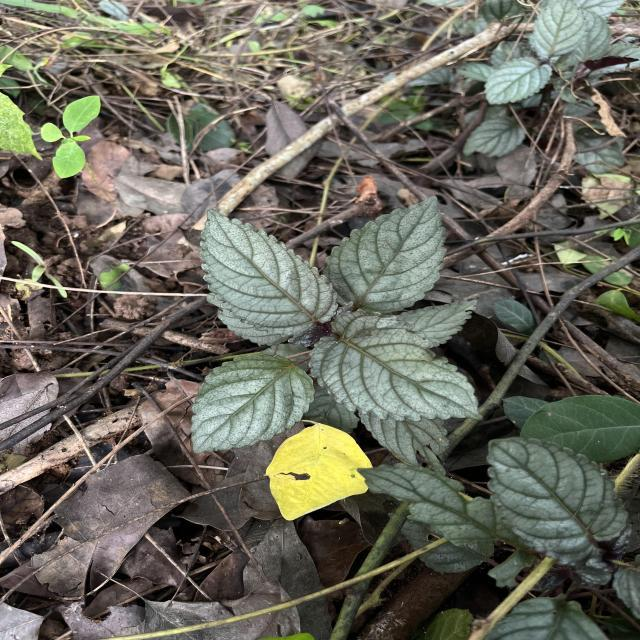Hemigraphis colorata: (307, 308, 486, 424), (485, 435, 631, 567), (198, 206, 340, 338), (320, 194, 450, 314), (188, 352, 316, 455), (395, 297, 480, 348), (482, 54, 554, 106)
